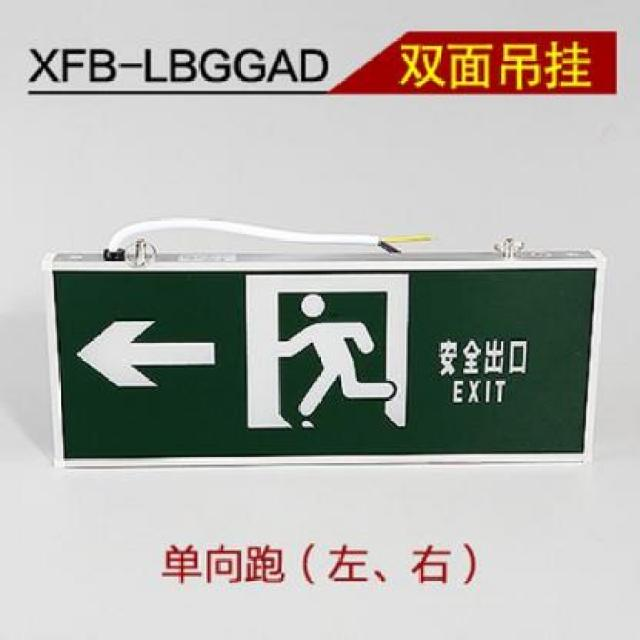exit_sign: (48, 242, 602, 470)
